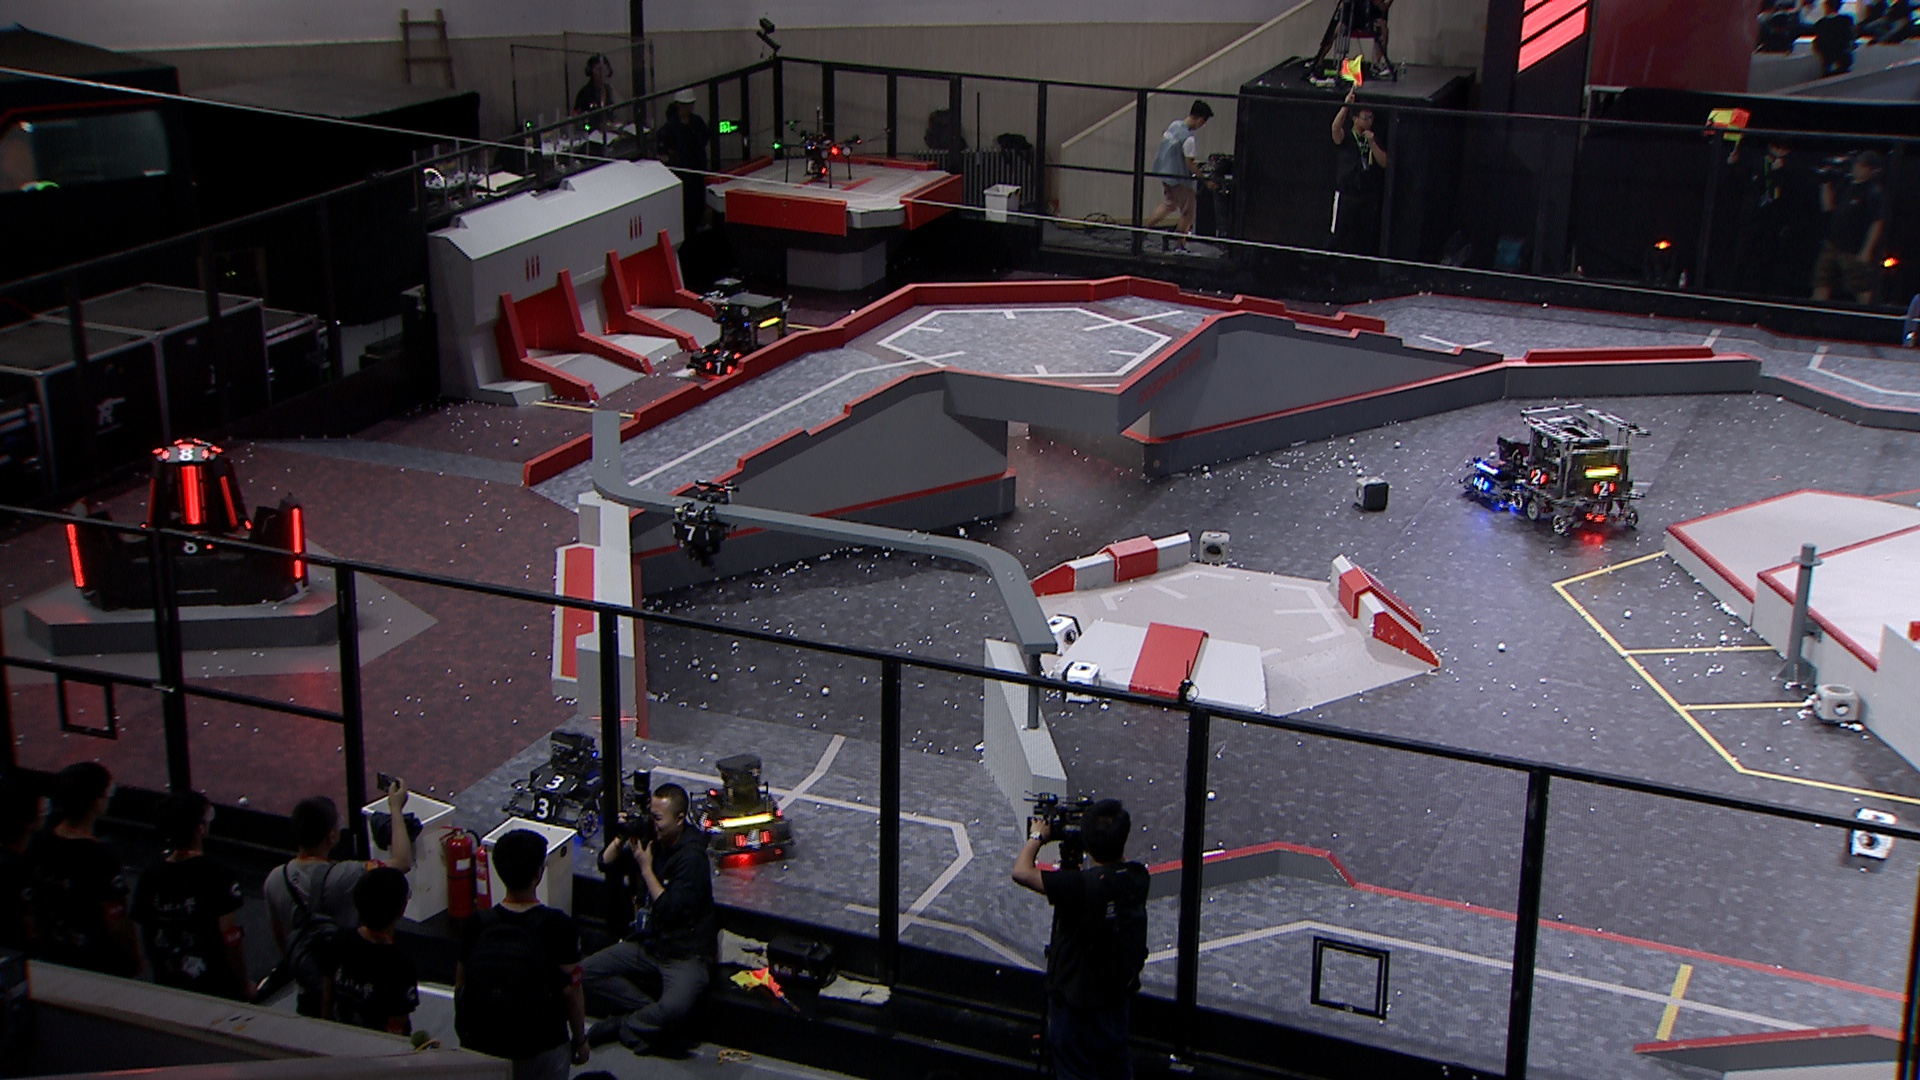armor: (177, 465, 208, 527), (63, 522, 88, 589), (290, 506, 309, 579), (218, 473, 239, 527), (533, 773, 579, 794), (160, 447, 210, 465), (171, 535, 215, 556), (529, 794, 560, 822), (669, 522, 712, 542), (141, 473, 157, 527), (735, 827, 771, 849), (712, 347, 745, 361), (1592, 479, 1619, 496), (703, 361, 735, 376), (692, 808, 712, 829), (1472, 475, 1491, 493), (1527, 467, 1548, 484)
base: (58, 434, 310, 611)
car: (1513, 400, 1650, 538), (502, 725, 640, 843), (679, 752, 796, 869), (683, 277, 795, 386), (1461, 433, 1544, 514)
watcher: (667, 479, 737, 572)
